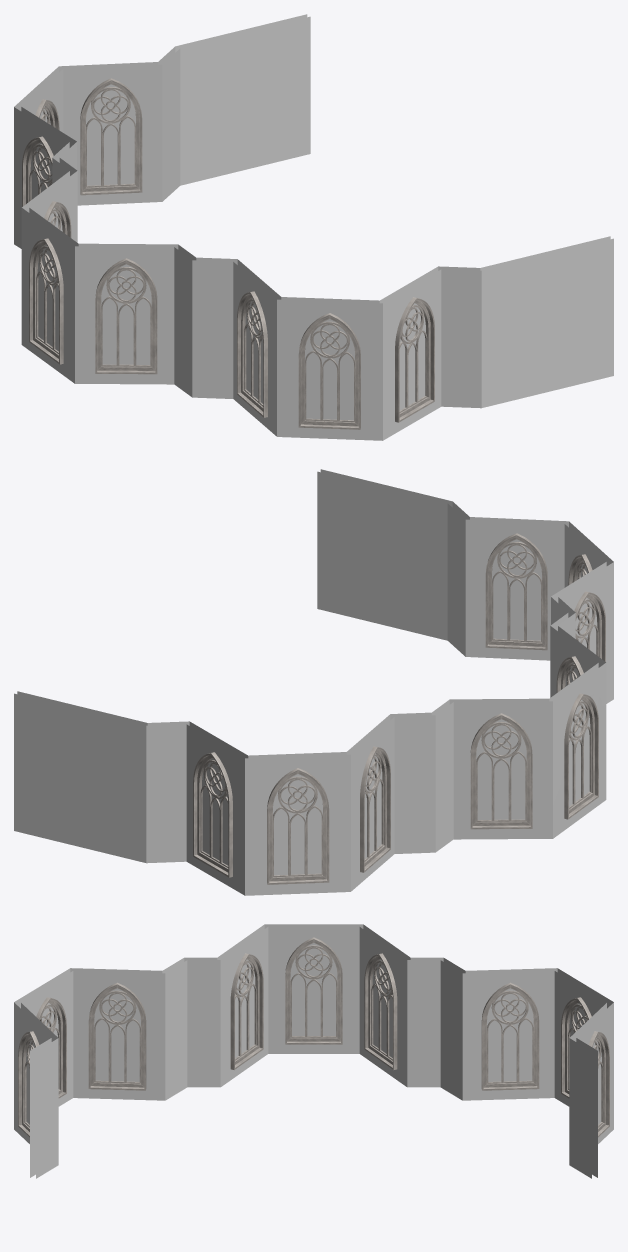
Rendered from Ambulatory_Outer_A_B.fbx.
3 renders of one model, top to bottom at view 1: azimuth 30°, elevation 25°; view 2: azimuth 150°, elevation 25°; view 3: azimuth 270°, elevation 25°, orthographic. The views are drawn at different scales.
Visible parts, largest first — view 1: Ambulatory_Outer_A_B; view 2: Ambulatory_Outer_A_B; view 3: Ambulatory_Outer_A_B.
Part boxes in pixels (x1,y1,x2,y2): Ambulatory_Outer_A_B: [14, 14, 613, 440]; Ambulatory_Outer_A_B: [14, 469, 613, 895]; Ambulatory_Outer_A_B: [14, 924, 613, 1178].
Bounding box in the file's own units: 19.02 × 25.64 × 6.
